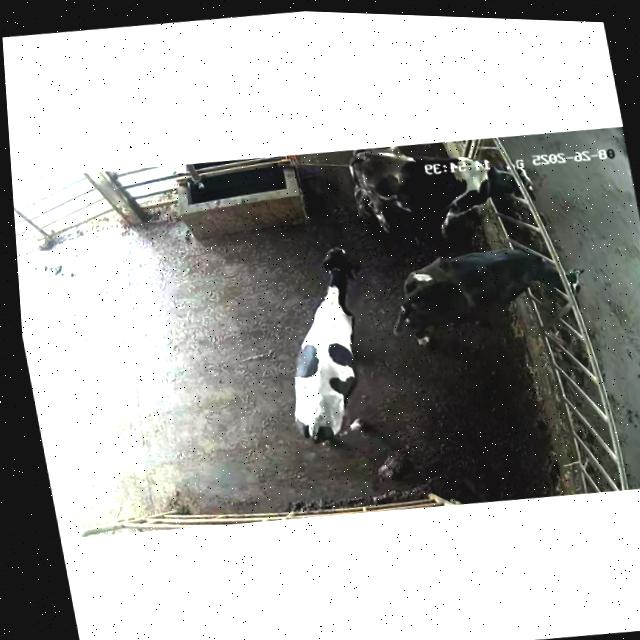stand: (244, 229, 408, 462)
